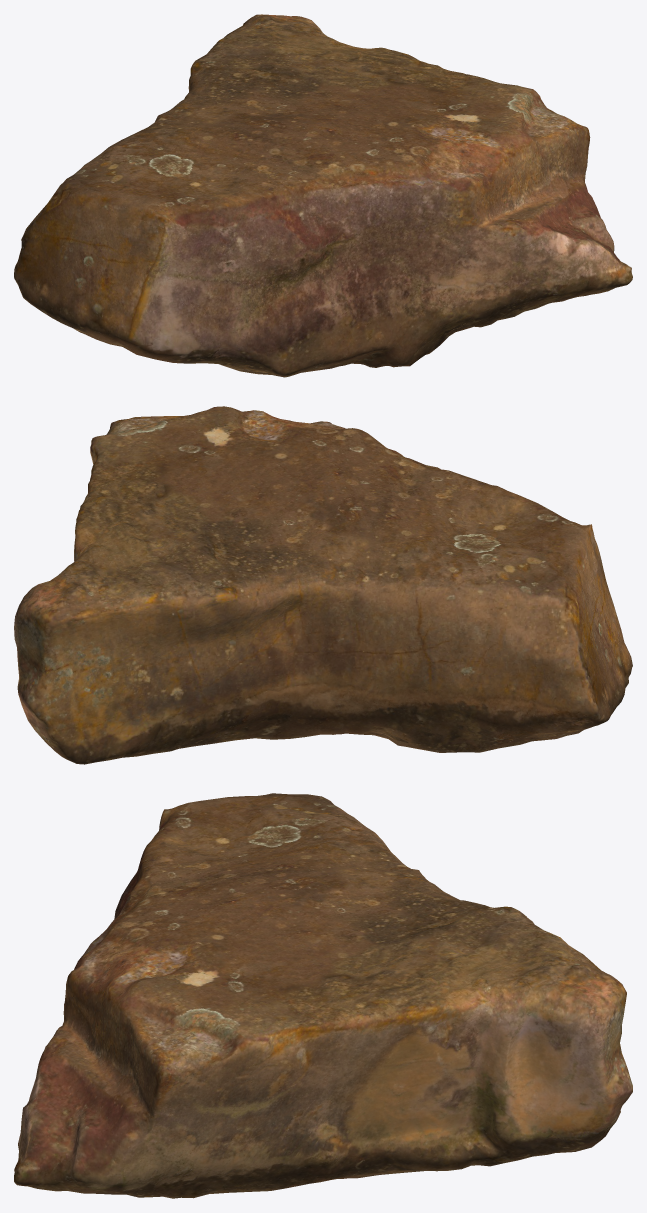
Rendered from rock2.opt.glb.
3 views of the same model, one above another, from view 1: azimuth 30°, elevation 25°; view 2: azimuth 150°, elevation 25°; view 3: azimuth 270°, elevation 25° (orthographic). The views are drawn at different scales.
Visible parts, largest first — view 1: Aset_rock_sandstone_M_pjhuB_LOD0; view 2: Aset_rock_sandstone_M_pjhuB_LOD0; view 3: Aset_rock_sandstone_M_pjhuB_LOD0.
Part boxes in pixels (left/top/right/bottom): Aset_rock_sandstone_M_pjhuB_LOD0: left=14, top=14, right=632, bottom=377; Aset_rock_sandstone_M_pjhuB_LOD0: left=14, top=406, right=632, bottom=764; Aset_rock_sandstone_M_pjhuB_LOD0: left=14, top=793, right=632, bottom=1198.
Bounding box in the file's own units: 0.91 × 0.3588 × 0.8165.
1 material, 1 textured.
